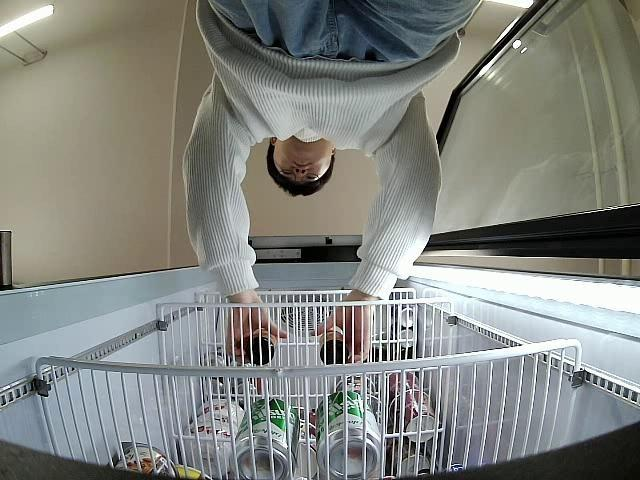17_vita500: (244, 330, 276, 364), (318, 329, 349, 364)
